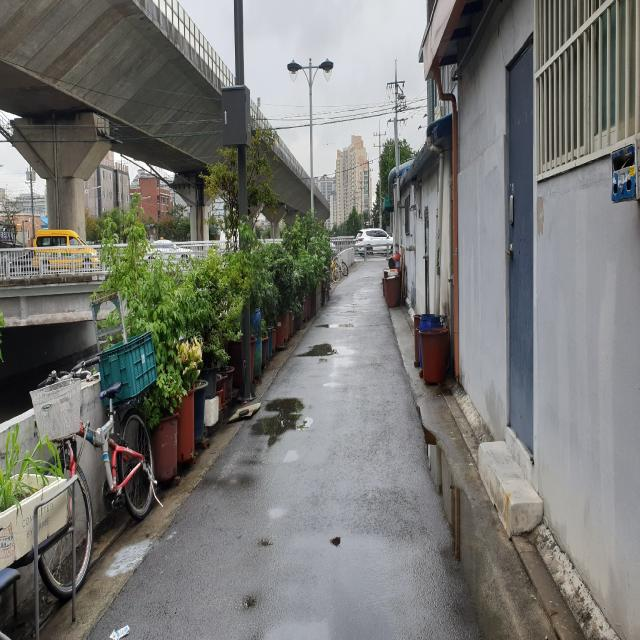motorbike: (414, 327, 451, 385)
